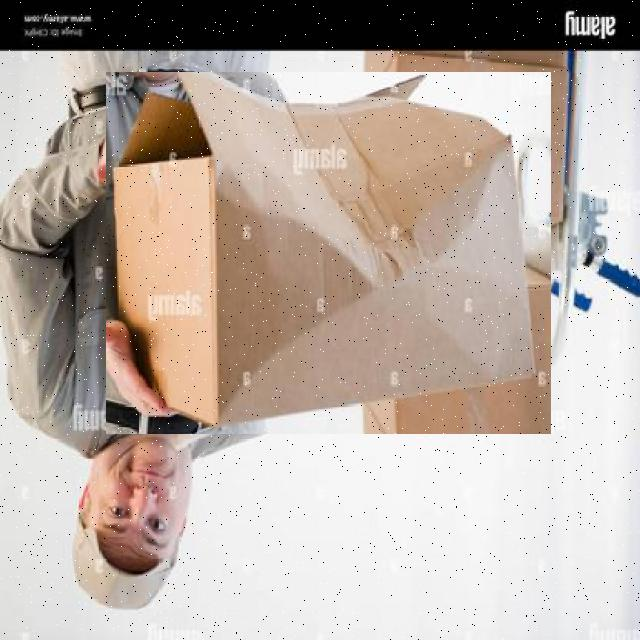defect: (106, 72, 551, 434)
